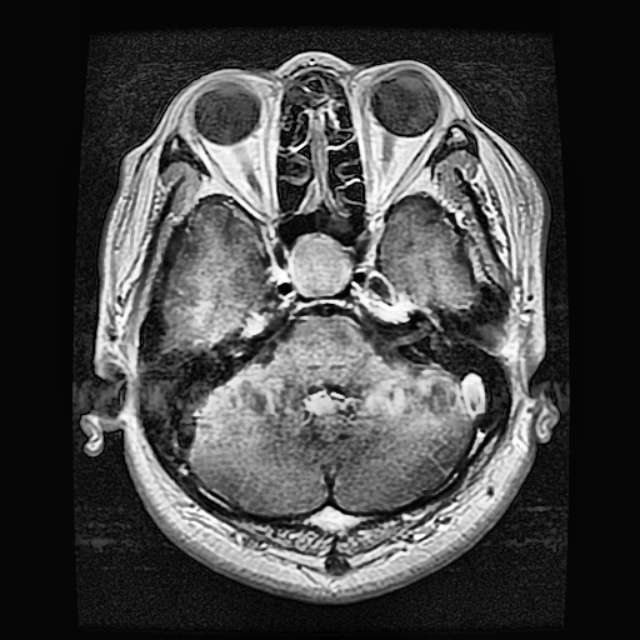Pituitary: (290, 234, 352, 295)
